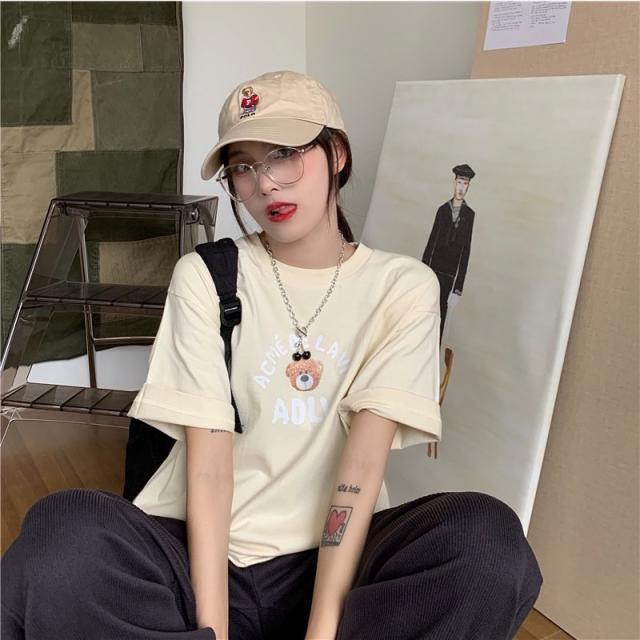Shirt: (126, 232, 442, 558)
